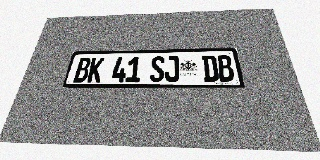1: (125, 57, 141, 82)
4: (111, 57, 128, 82)
B: (216, 55, 235, 82), (73, 58, 92, 82)
D: (202, 55, 219, 82)
J: (165, 56, 179, 82)
K: (87, 57, 105, 82)
S: (150, 56, 165, 82)
